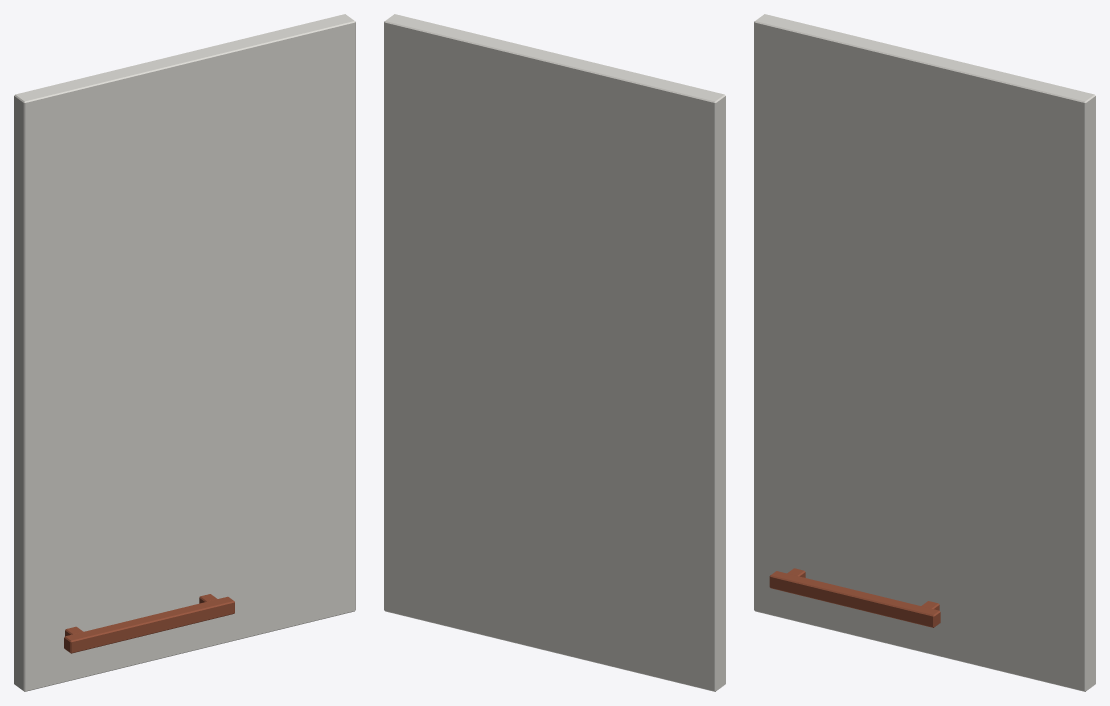
Rendered from l_kitchen_cabinets_w1_right_door.glb.
The picture shows the model from 3 angles, left to right: view 1: azimuth 30°, elevation 25°; view 2: azimuth 150°, elevation 25°; view 3: azimuth 330°, elevation 25°; orthographic projection.
Visible parts, largest first — view 1: l_kitchen_cabinets_w1_right_door; view 2: l_kitchen_cabinets_w1_right_door; view 3: l_kitchen_cabinets_w1_right_door.
Boxes of the visible parts, <box> form: l_kitchen_cabinets_w1_right_door: <box>14,14,355,691</box>; l_kitchen_cabinets_w1_right_door: <box>384,14,725,691</box>; l_kitchen_cabinets_w1_right_door: <box>754,14,1095,691</box>.
Size of the model in its own units: 0.322 by 0.547 by 0.044.
